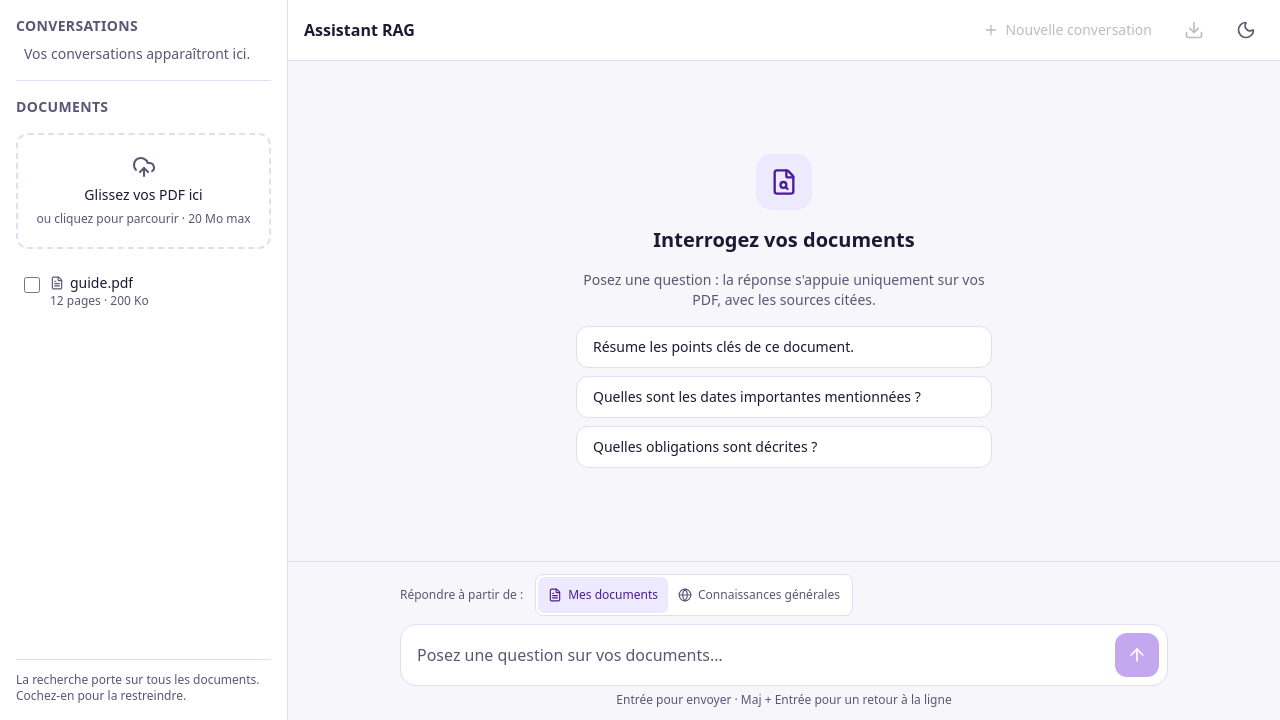
Test: App › shows the error sent by the server in the stream
Expected: the text "guide.pdf" is shown, [70,273,133,293]
Type "Q" into the text box named "Votre question" at coordinates (758, 655), box [409,633,1107,677]
Then press Enter
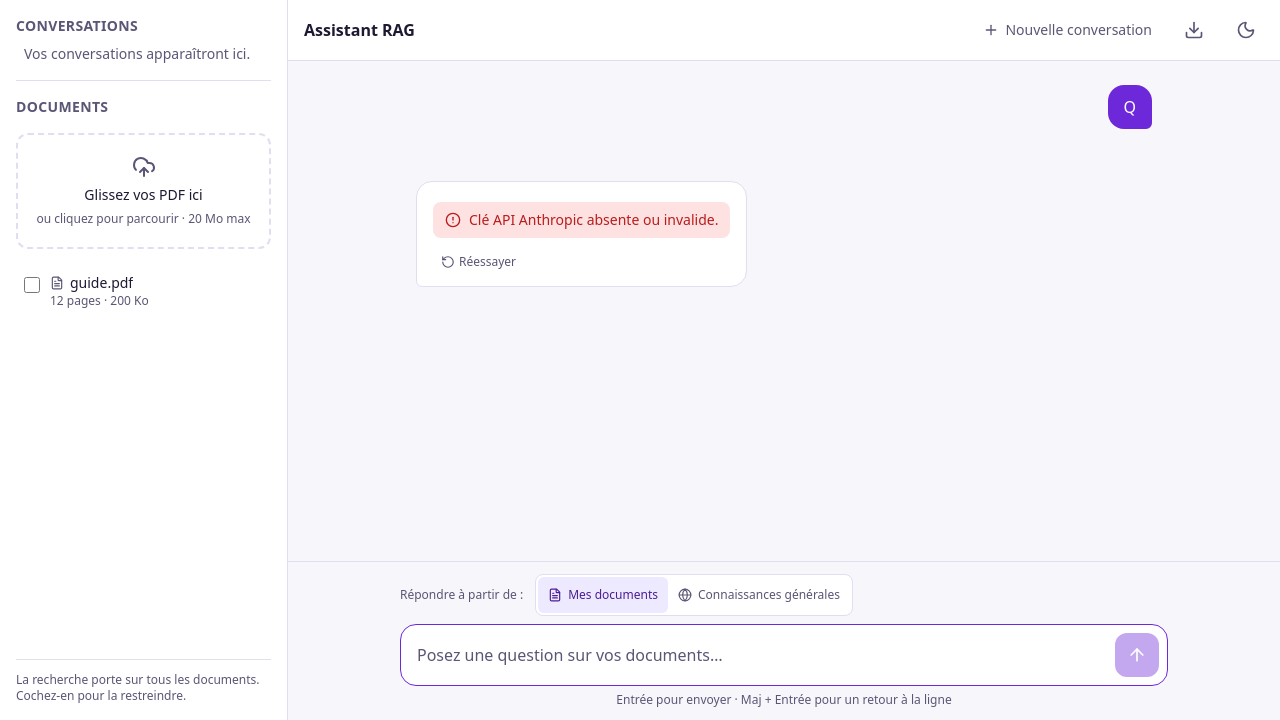
Expected: the button named "Envoyer la question" is shown, [1115,633,1159,677]
Now the message shows "Clé API Anthropic absente", box [469,210,718,229]
